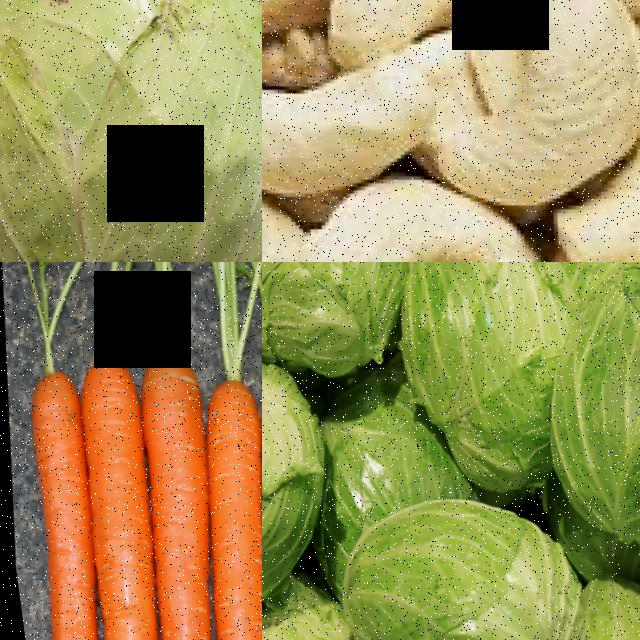cabbage: (0, 0, 262, 262), (317, 476, 589, 640), (390, 262, 573, 462), (530, 262, 640, 558), (262, 262, 410, 376), (262, 362, 329, 590)
carrot: (101, 328, 247, 640), (38, 331, 183, 640), (0, 336, 117, 640), (160, 348, 262, 640), (210, 330, 262, 640)
cashew: (445, 0, 640, 192), (262, 22, 429, 178), (291, 171, 497, 262), (557, 86, 640, 262)
